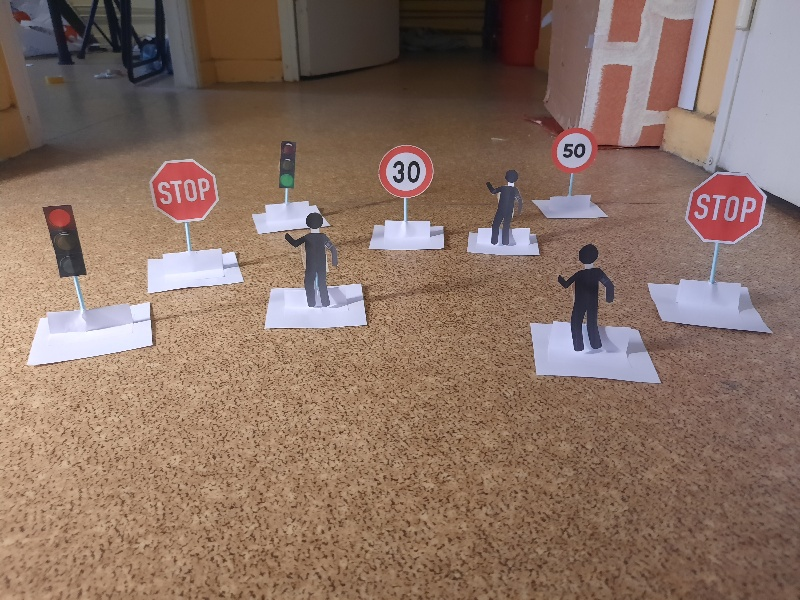Green: (277, 142, 296, 190)
Limit 30: (377, 145, 434, 197)
Limit 50: (549, 127, 596, 172)
Person: (558, 246, 611, 354), (287, 213, 340, 312), (487, 168, 522, 246)
Red: (43, 207, 87, 275)
Stop: (686, 171, 763, 245), (149, 163, 215, 225)
